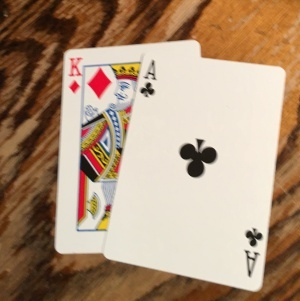card: (106, 54, 287, 293), (55, 47, 139, 254)
